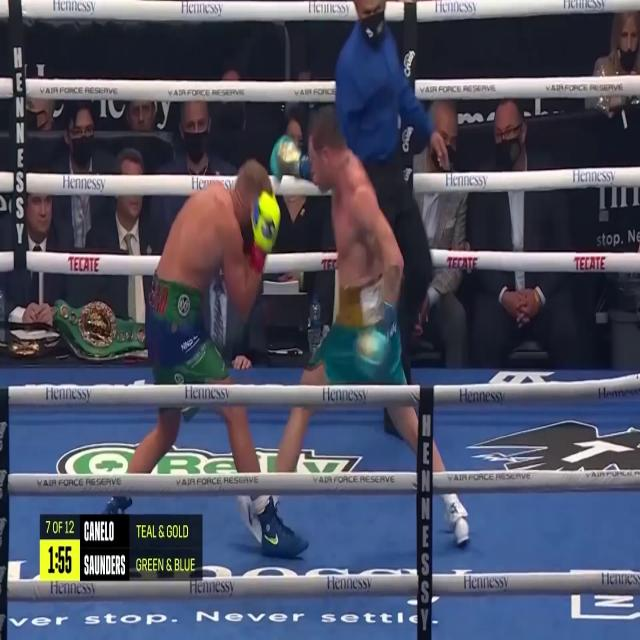boxer_1: (158, 161, 273, 288)
boxer_2: (309, 118, 383, 286)
gloves_1: (250, 191, 281, 278)
gloves_2: (356, 302, 397, 364), (270, 135, 311, 181)
